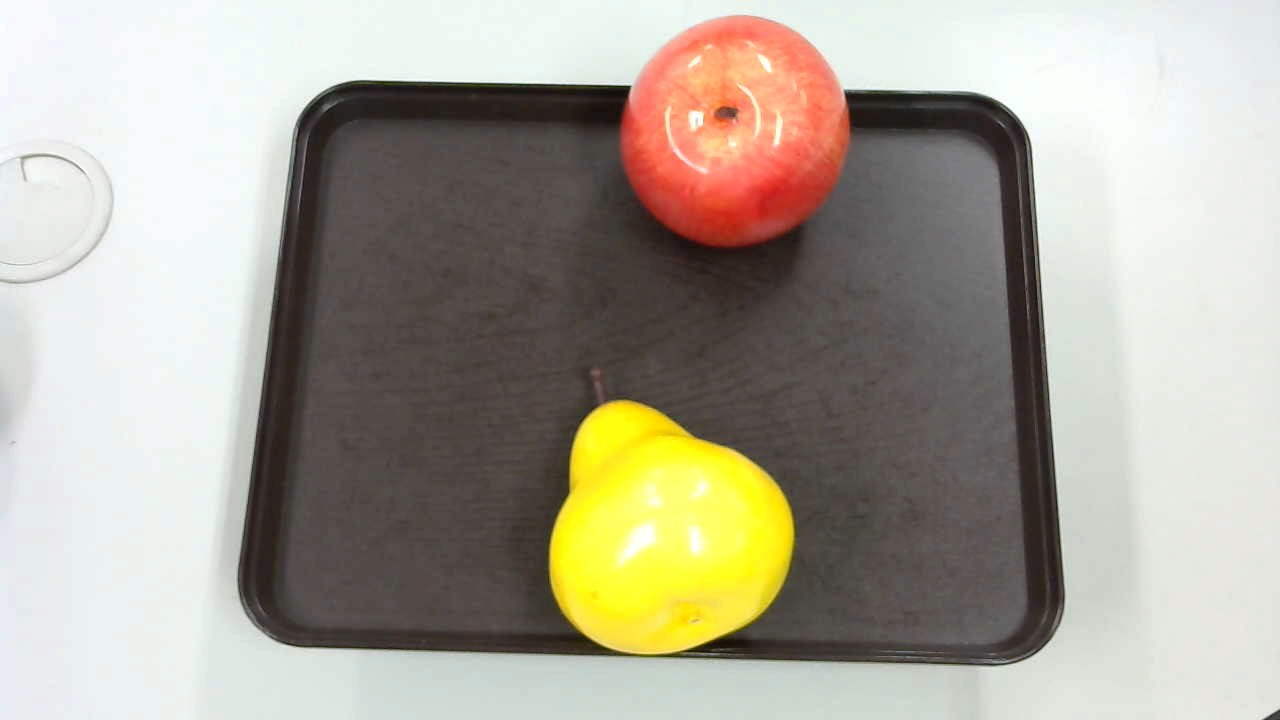red apple: (615, 15, 854, 252)
yellow pear: (545, 364, 799, 656)
